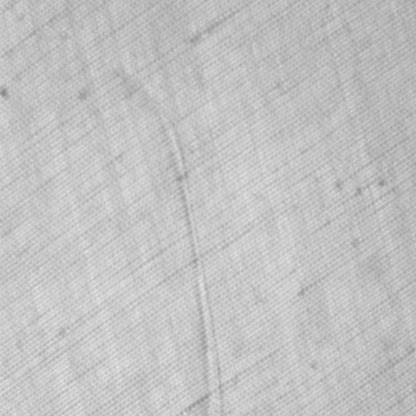objects: (156, 110, 227, 415)
